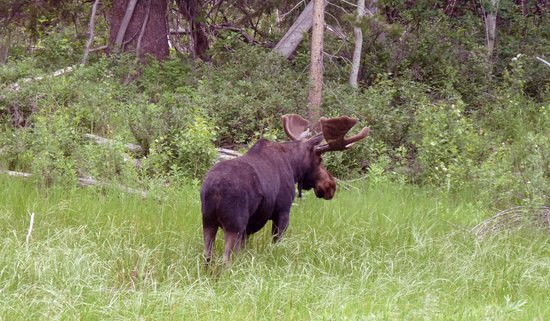moose: (197, 111, 370, 261)
